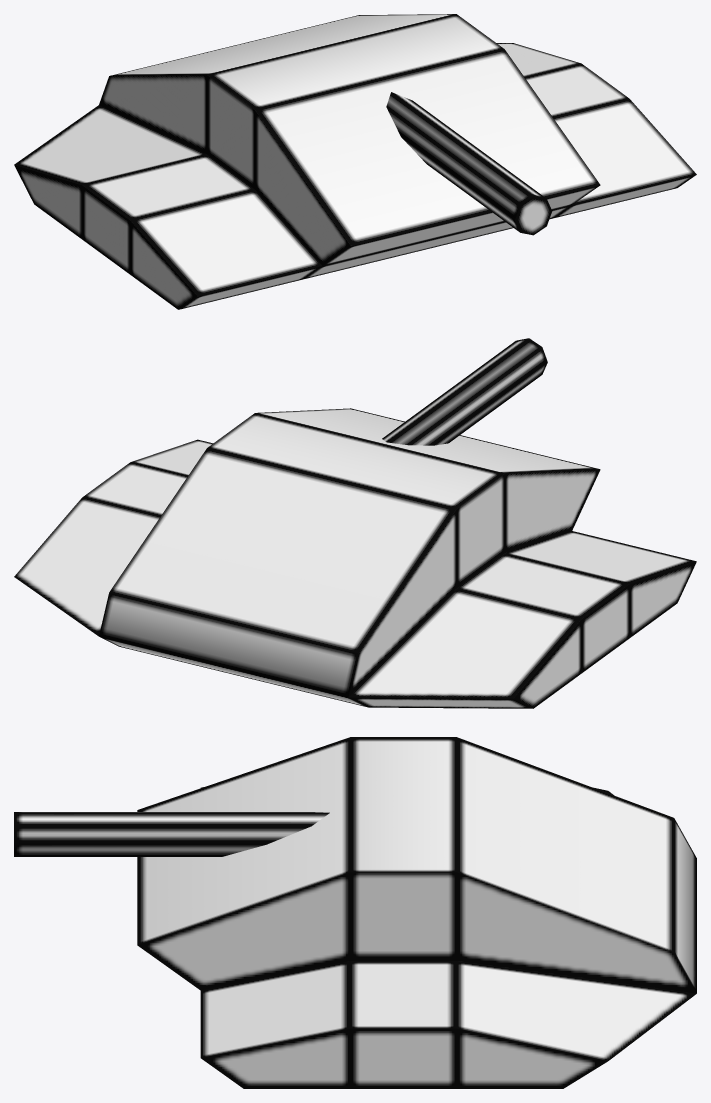
Rendered from Tank1.obj.
The picture shows the model from 3 angles, top to bottom: view 1: azimuth 30°, elevation 25°; view 2: azimuth 150°, elevation 25°; view 3: azimuth 270°, elevation 25°; orthographic projection. The views are drawn at different scales.
Visible parts, largest first — view 1: Box13; view 2: Box13; view 3: Box13.
Boxes of the visible parts, bbox=[...] form: Box13: bbox=[14, 14, 696, 309]; Box13: bbox=[14, 338, 696, 708]; Box13: bbox=[14, 737, 696, 1088].
Size of the model in its own units: 4 by 1.03 by 4.27.
Materials: 1 (1 with a texture image).
